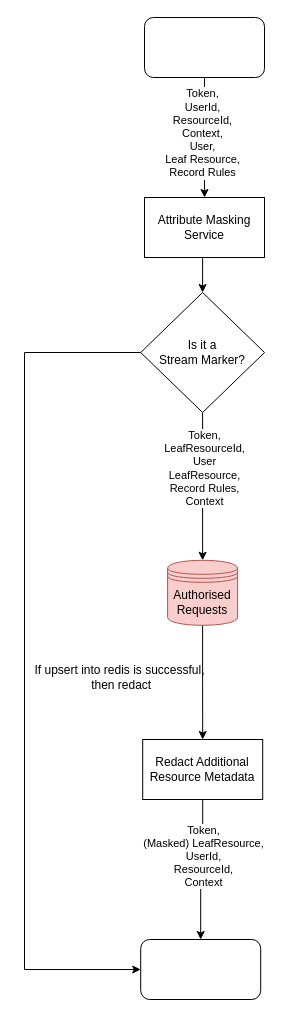
This 282x1017 diagram has some shape labels left out. Here are the shapes that lost their labels. From the top down, the centre of each, then its label:
point (204, 47): Read from Kafka "rule"
point (200, 969): Send to Kafka "masked-resource"
